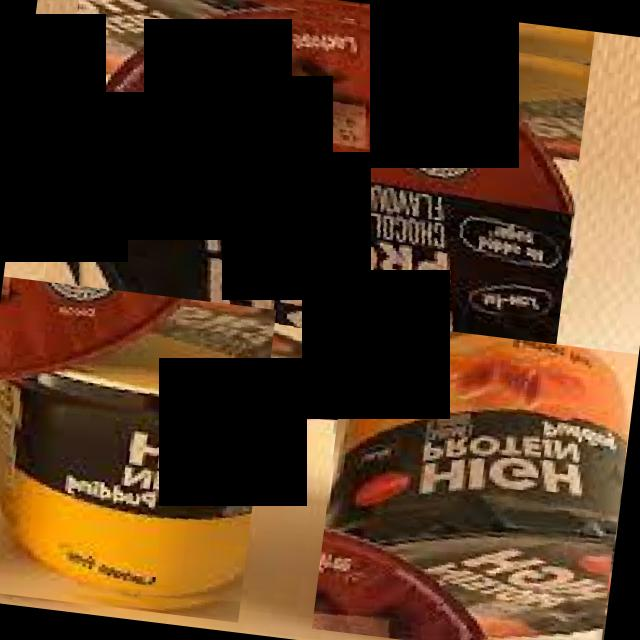yogurt: (31, 0, 594, 445), (311, 318, 638, 640), (0, 276, 276, 622)
